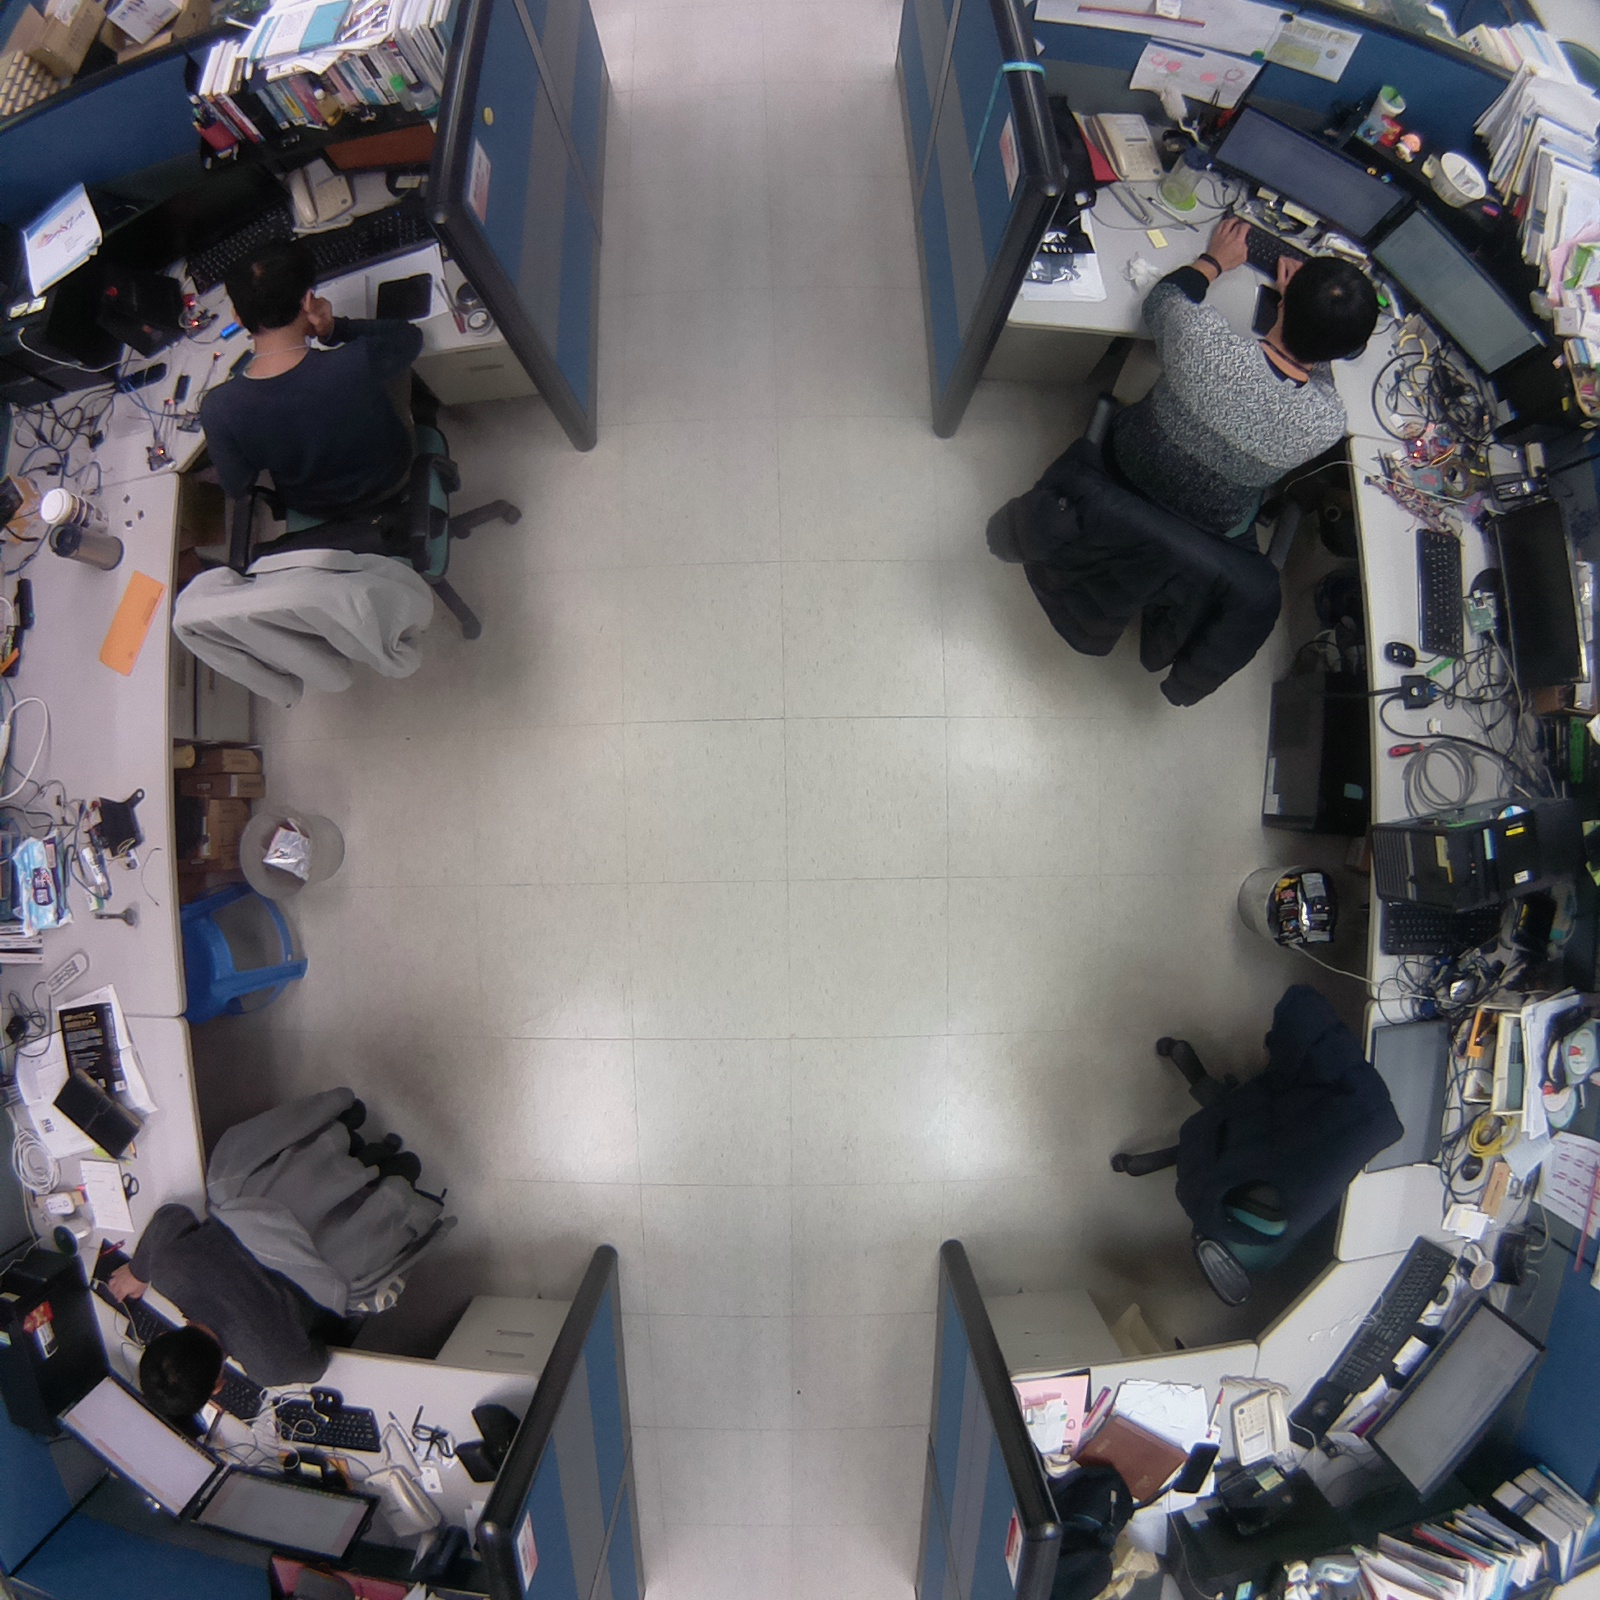chair: (1103, 980, 1411, 1323)
sitting: (963, 193, 1401, 725), (154, 210, 547, 722), (84, 1058, 478, 1458)
